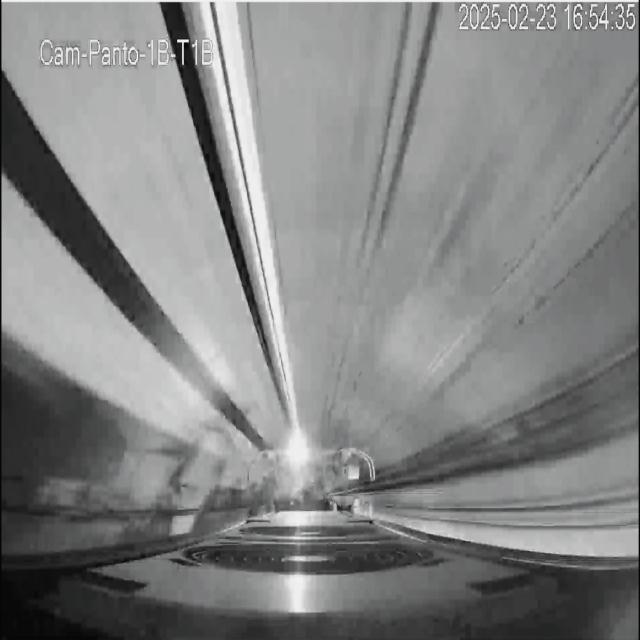Camera Stamp: (36, 31, 217, 69)
Date Stamp: (458, 3, 636, 33)
Sparks: (278, 423, 316, 485)
